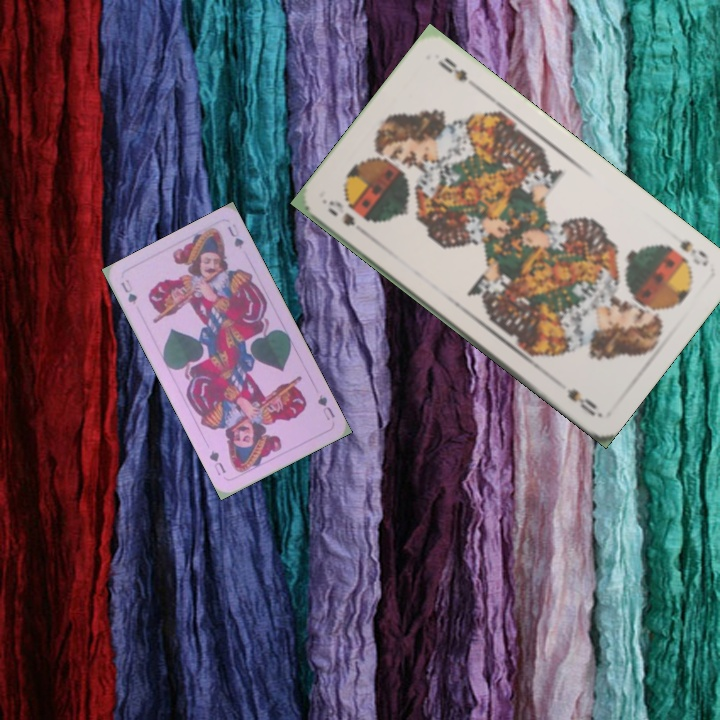GU: (313, 390, 338, 423), (117, 275, 140, 307)
SO: (675, 236, 712, 269), (323, 196, 358, 229)
